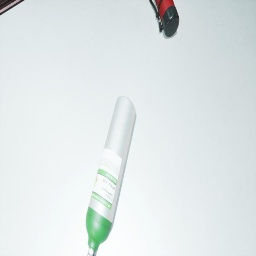0: (86, 96, 136, 256)
FireExtinguisher ]: (149, 0, 180, 38)
